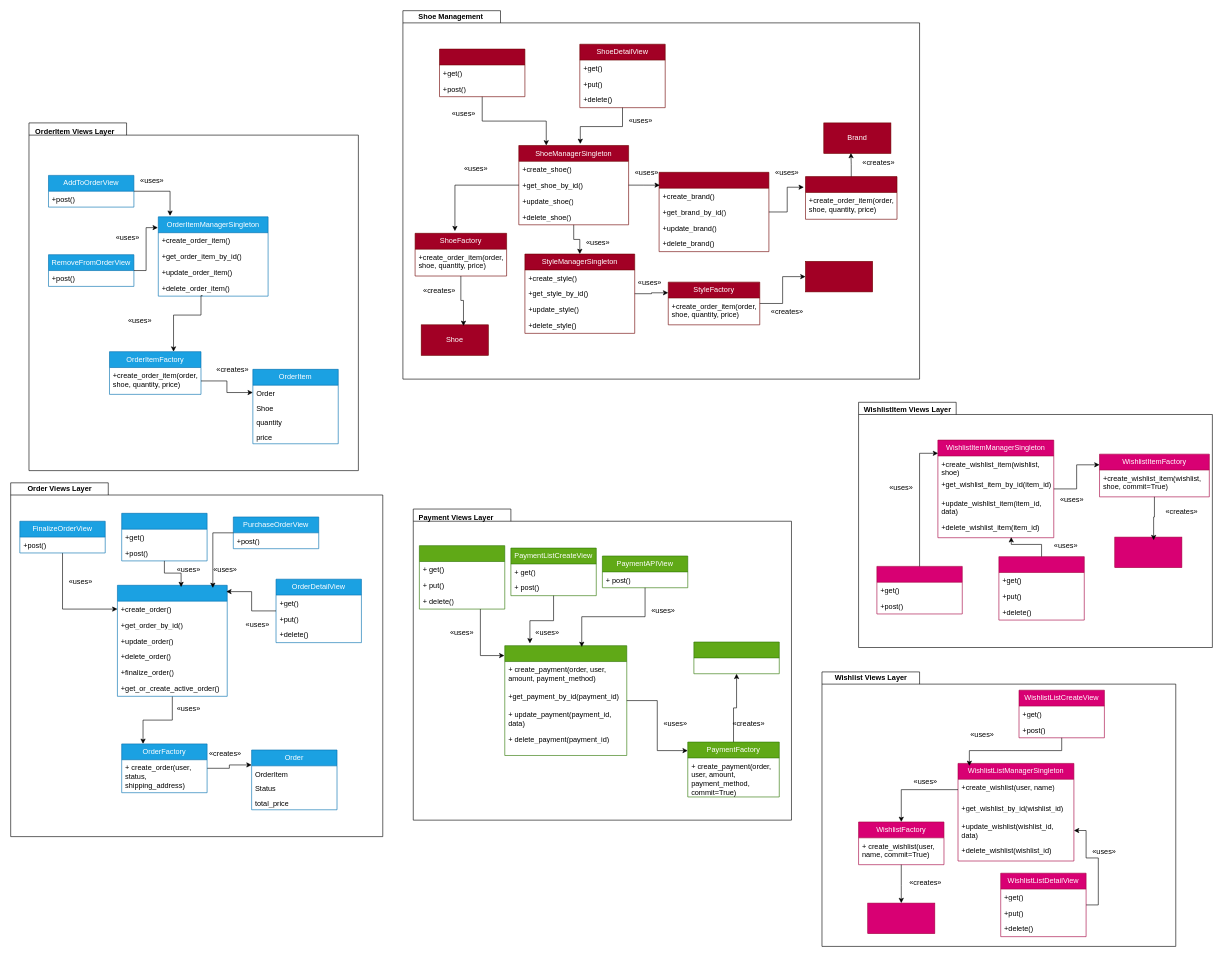
Image size: 1223x957. Some labels were removed from this diagram. Each missing label, with the box of its shape:
BrandFactory: (805, 176, 897, 219)
BrandManagerSingleton: (658, 172, 769, 252)
OrderListCreateView: (121, 513, 207, 561)
OrderManagerSingleton: (117, 585, 227, 696)
Payment: (693, 641, 779, 674)
PaymentDetailView: (419, 545, 505, 609)
PaymentManagerSingleton: (504, 645, 627, 755)
ShoeListView: (439, 48, 525, 97)
Style: (805, 261, 873, 292)
Wishlist: (867, 902, 935, 934)
WishlistItem: (1114, 536, 1182, 568)
WishlistItemCreateView: (876, 566, 962, 614)
WishlistItemListDetailView: (998, 556, 1084, 620)
